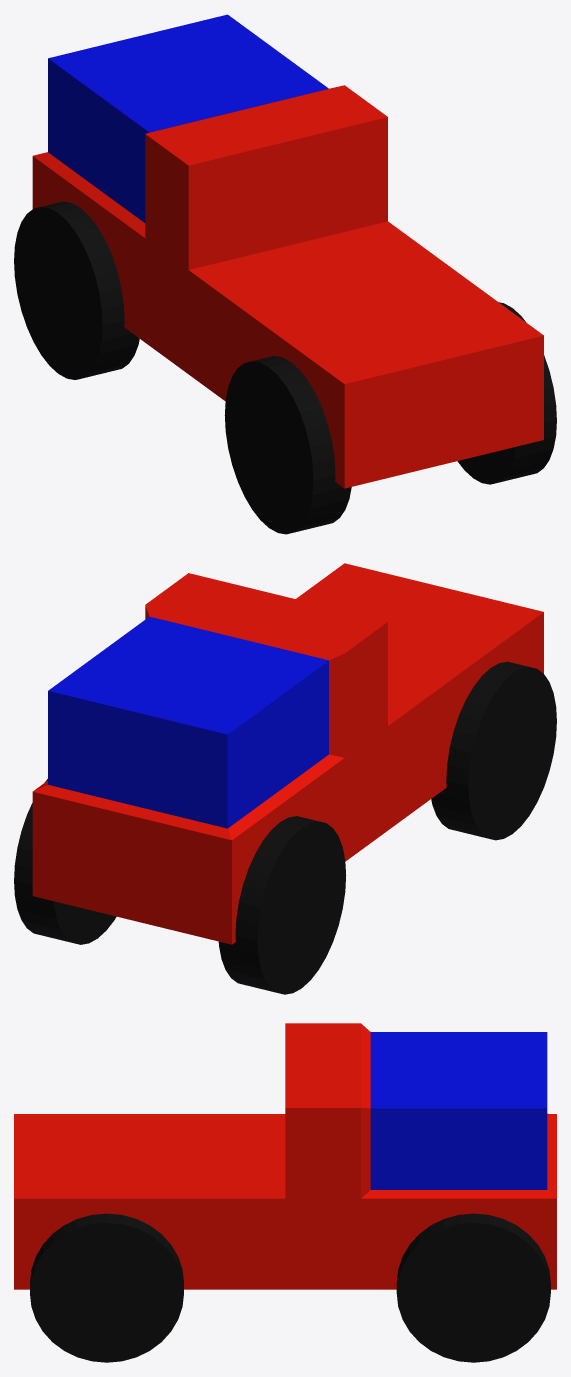
File: TestCube.fbx
3 renders of one model, top to bottom at view 1: azimuth 30°, elevation 25°; view 2: azimuth 150°, elevation 25°; view 3: azimuth 270°, elevation 25°, orthographic. The views are drawn at different scales.
Parts seen in each view (by area): view 1: Cube; view 2: Cube; view 3: Cube.
Part boxes in pixels (bbox=[...]): Cube: bbox=[14, 14, 556, 534]; Cube: bbox=[14, 563, 556, 994]; Cube: bbox=[14, 1023, 556, 1362].
Bounding box in the file's own units: 1191 × 2643 × 1318.
